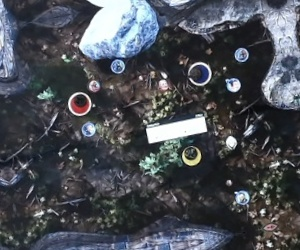blue: (184, 61, 211, 88)
lime_green_violet: (179, 139, 206, 166)
red: (65, 90, 92, 118)
